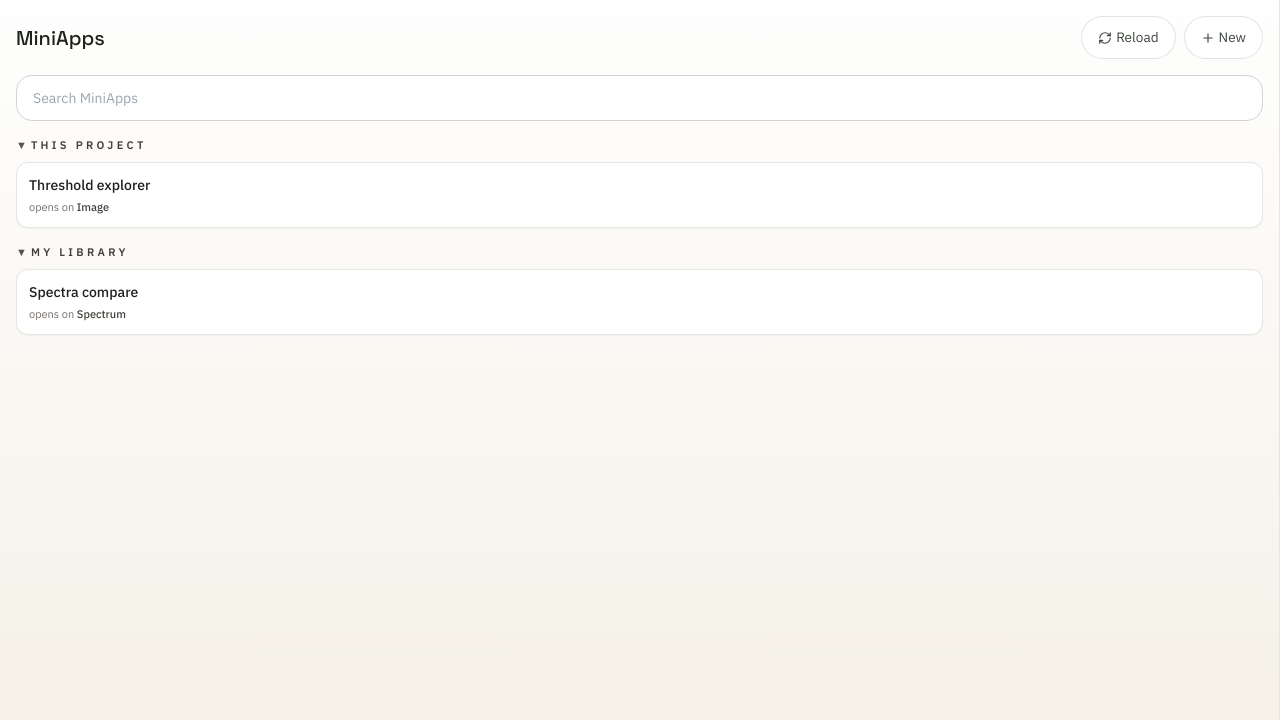
Test: MiniApps tab — the listing (FR-031) › narrows the list through the search box
Expected: the element with test id "miniapp-palette-content" is shown, [16,75,1263,335]
Expected: the button with test id "miniapp-card-threshold-explorer" is shown, [16,162,1263,228]
Step 1. Type "spectra" into the field with placeholder "Search MiniApps" → (640, 98), box [16,75,1263,121]
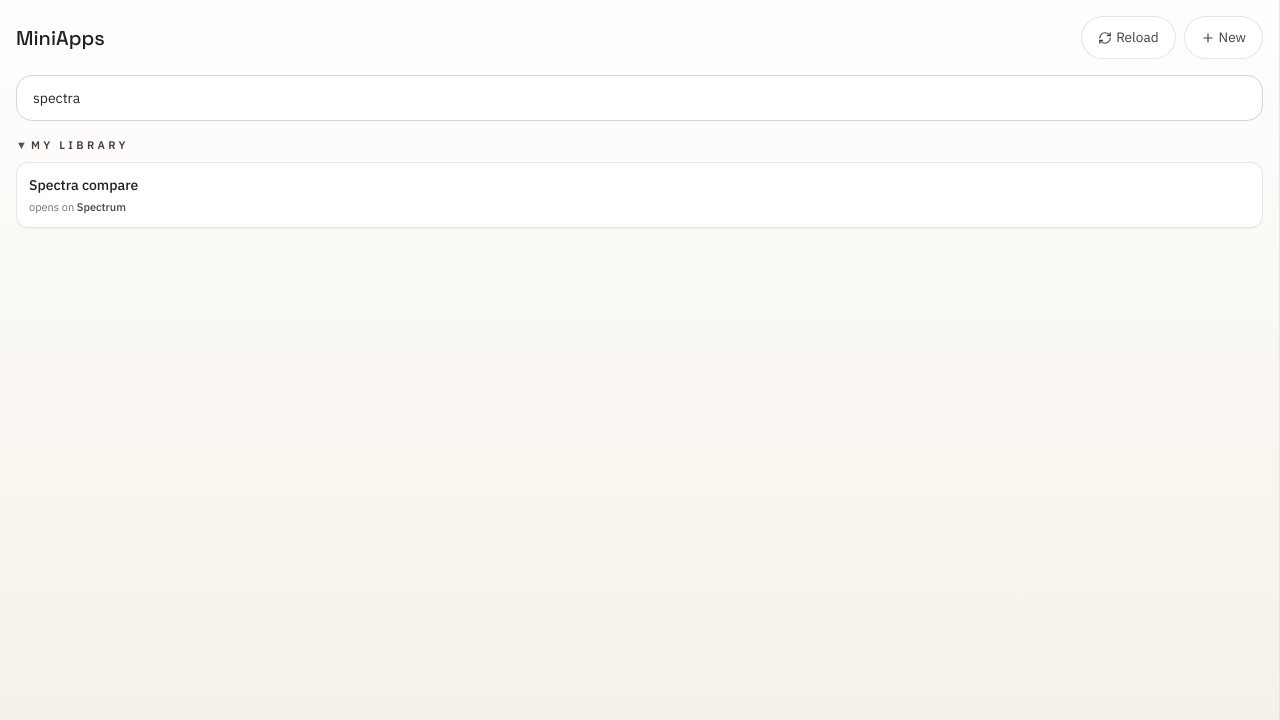
Expected: the button with test id "miniapp-card-spectra-compare" is shown, [16,162,1263,228]
Expected: the button with test id "miniapp-card-threshold-explorer" is gone
